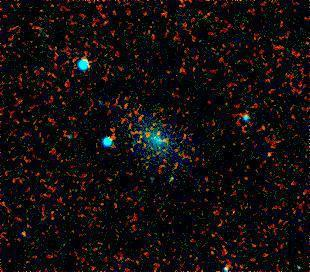star: (252, 144, 282, 174)
